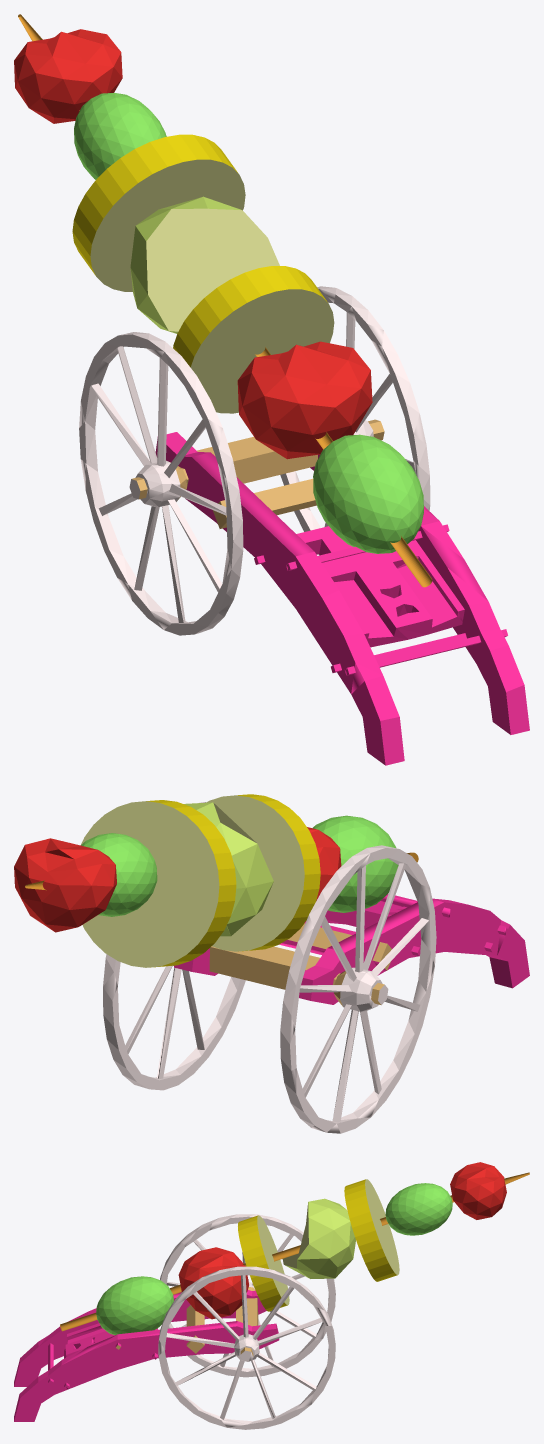
File: fruitCannon.glb
3 renders of one model, top to bottom at view 1: azimuth 30°, elevation 25°; view 2: azimuth 150°, elevation 25°; view 3: azimuth 270°, elevation 25°, orthographic. The views are drawn at different scales.
Parts seen in each view (by area): view 1: Cylinder; view 2: Cylinder; view 3: Cylinder.
Boxes of the visible parts, left/top/right/bottom form: Cylinder: left=14, top=14, right=529, bottom=765; Cylinder: left=14, top=794, right=529, bottom=1133; Cylinder: left=14, top=1162, right=529, bottom=1429.
Bounding box in the file's own units: 3.21 × 5.19 × 10.21.
